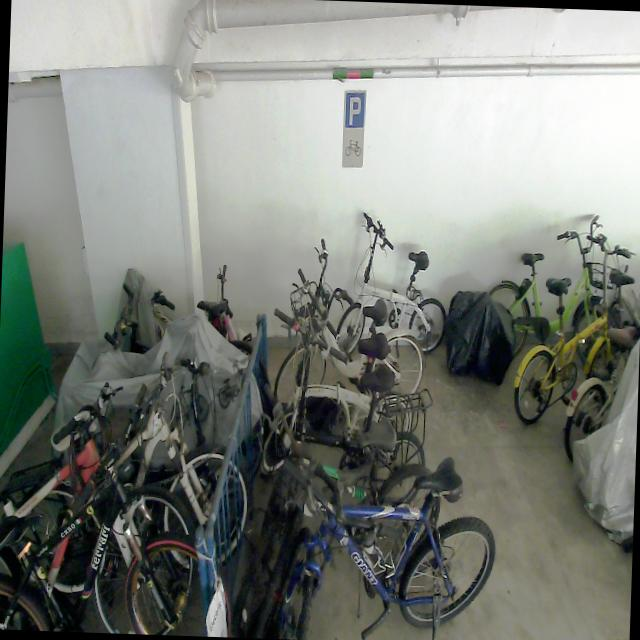bike: (0, 379, 240, 637), (21, 346, 252, 606), (0, 379, 201, 636), (246, 448, 498, 640), (259, 362, 427, 538), (260, 305, 416, 478), (272, 236, 428, 408), (483, 211, 629, 382), (512, 230, 640, 425), (336, 210, 450, 356)
